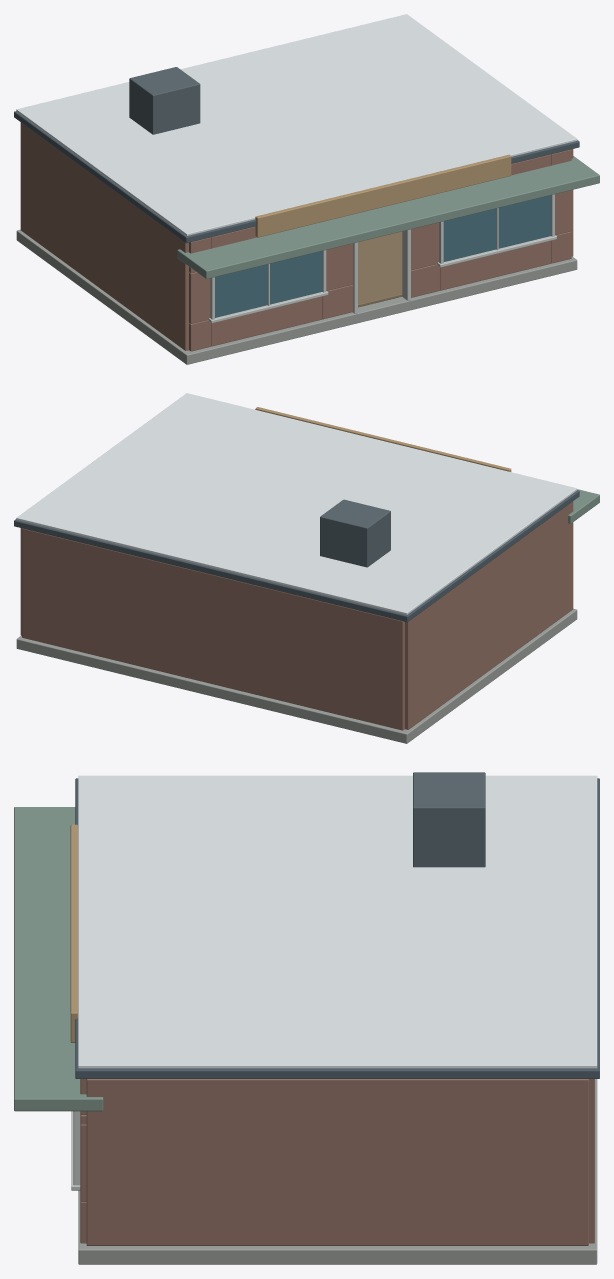
The model's file is service_store.glb.
3 views of the same model, one above another, from view 1: azimuth 30°, elevation 25°; view 2: azimuth 150°, elevation 25°; view 3: azimuth 270°, elevation 25° (orthographic). The views are drawn at different scales.
Visible parts, largest first — view 1: service_store; view 2: service_store; view 3: service_store.
Part boxes in pixels (x1,y1,x2,y2): service_store: [14, 14, 599, 364]; service_store: [14, 393, 599, 743]; service_store: [14, 772, 599, 1264].
Bounding box in the file's own units: 12.4 × 5.13 × 10.5.
